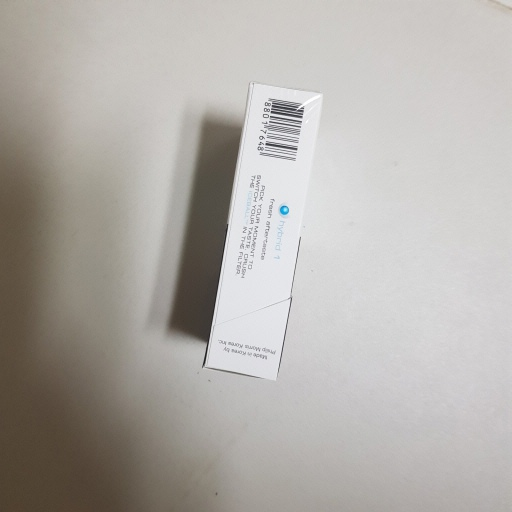Paper_0: (187, 80, 329, 397)
